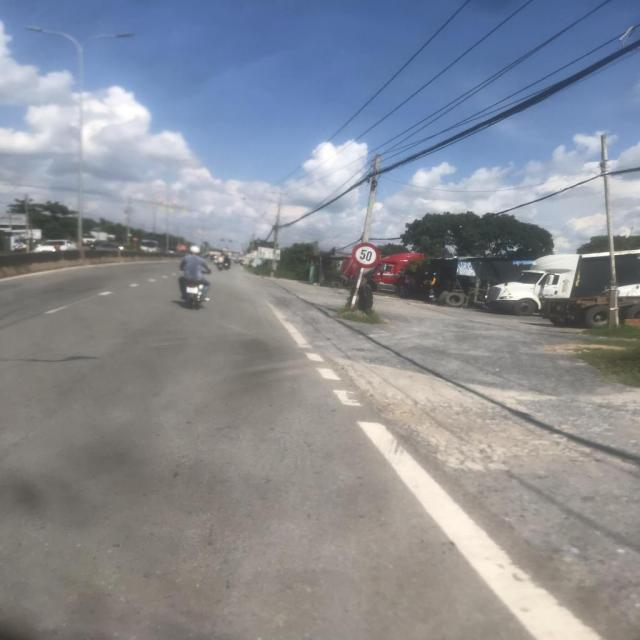127-toc-do-toi-da-50: (352, 241, 381, 269)
